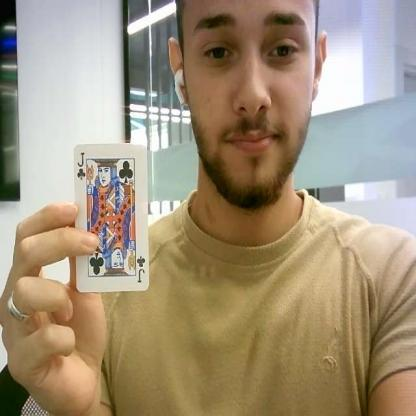JC: (134, 253, 146, 286), (75, 150, 86, 182)
